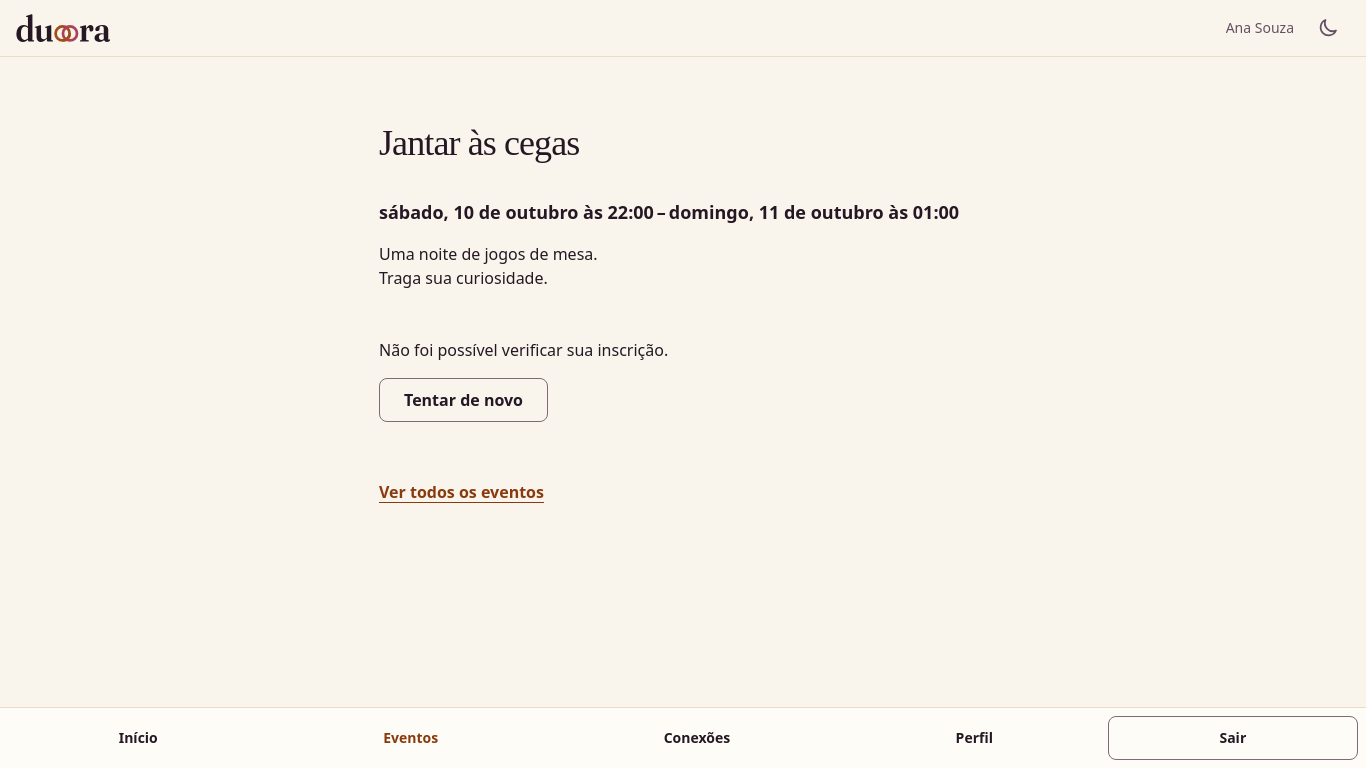
Test: event page › registration before the event › offers to try again when the registration could not be read
Expected: the text "Não foi possível verificar sua inscrição." is shown, [379,338,668,362]
Step 1. Click the button "Tentar de novo" → (464, 400), box [379,378,548,422]
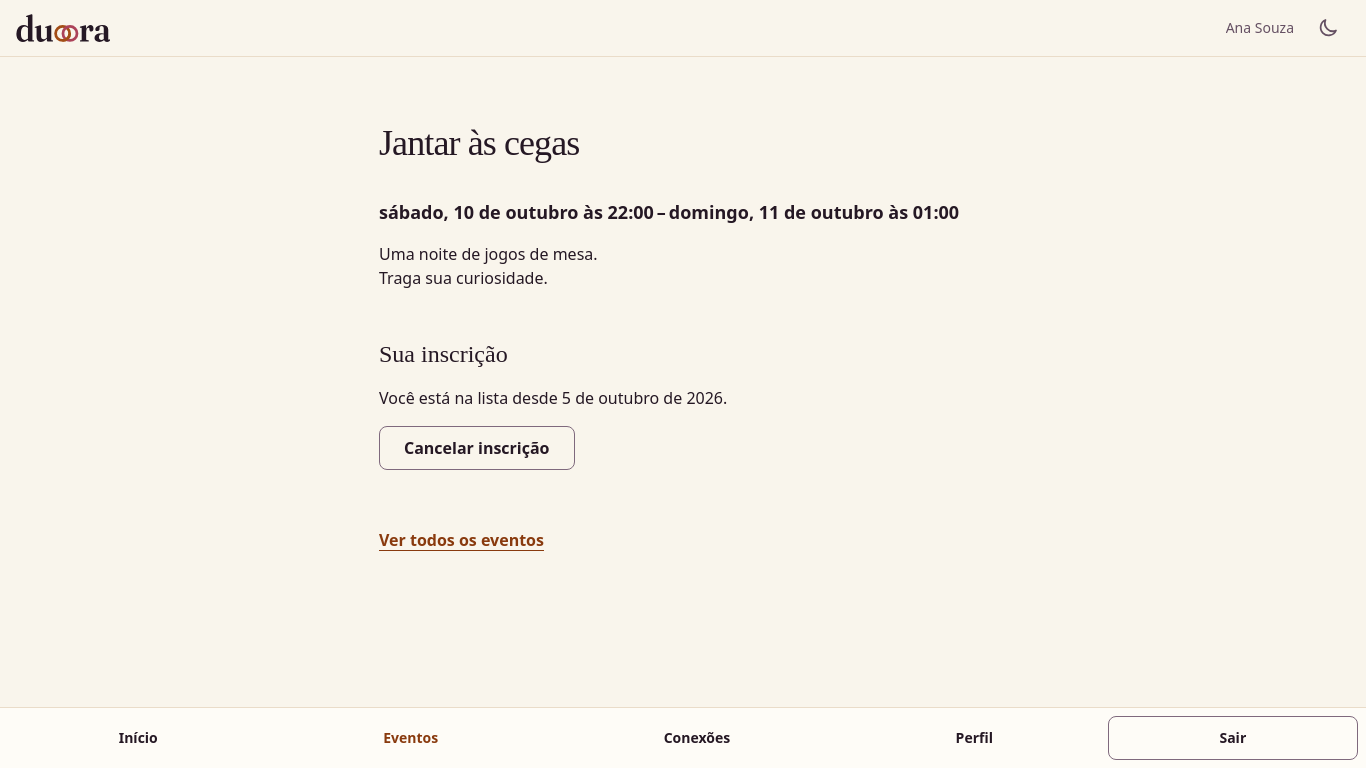
Expected: the text "Você está na lista desde 5 de outubro de 2026." is shown, [379,386,727,410]
